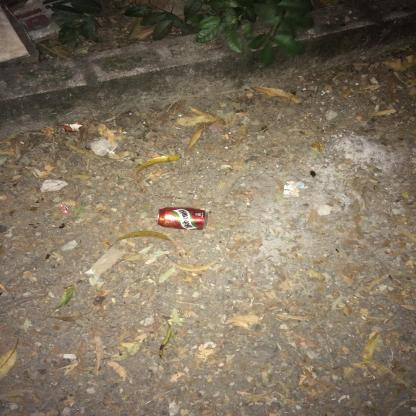trash: (154, 206, 211, 233), (280, 176, 310, 203), (88, 136, 120, 158), (38, 178, 74, 192)
